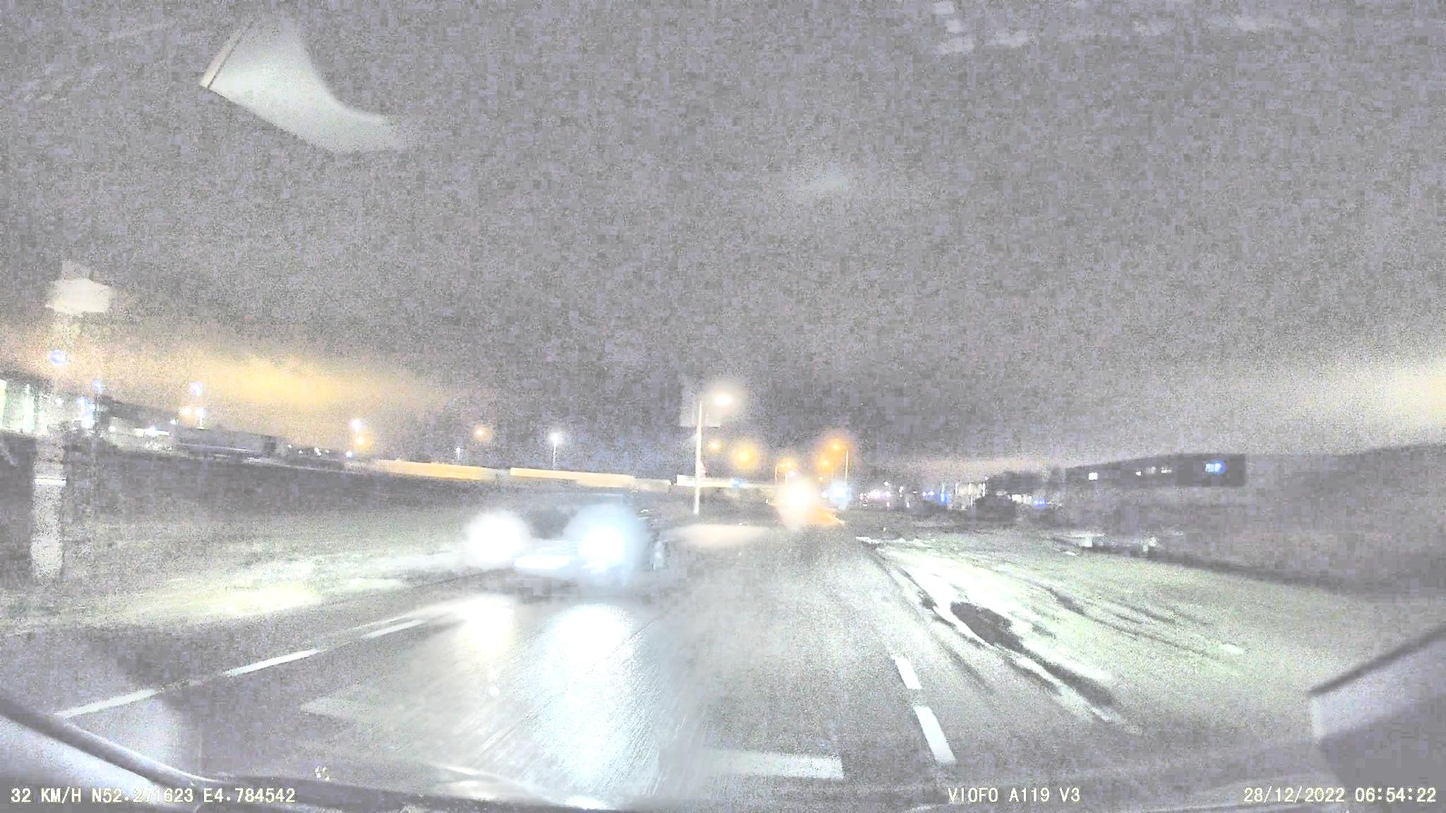Roads: (180, 518, 1012, 813)
